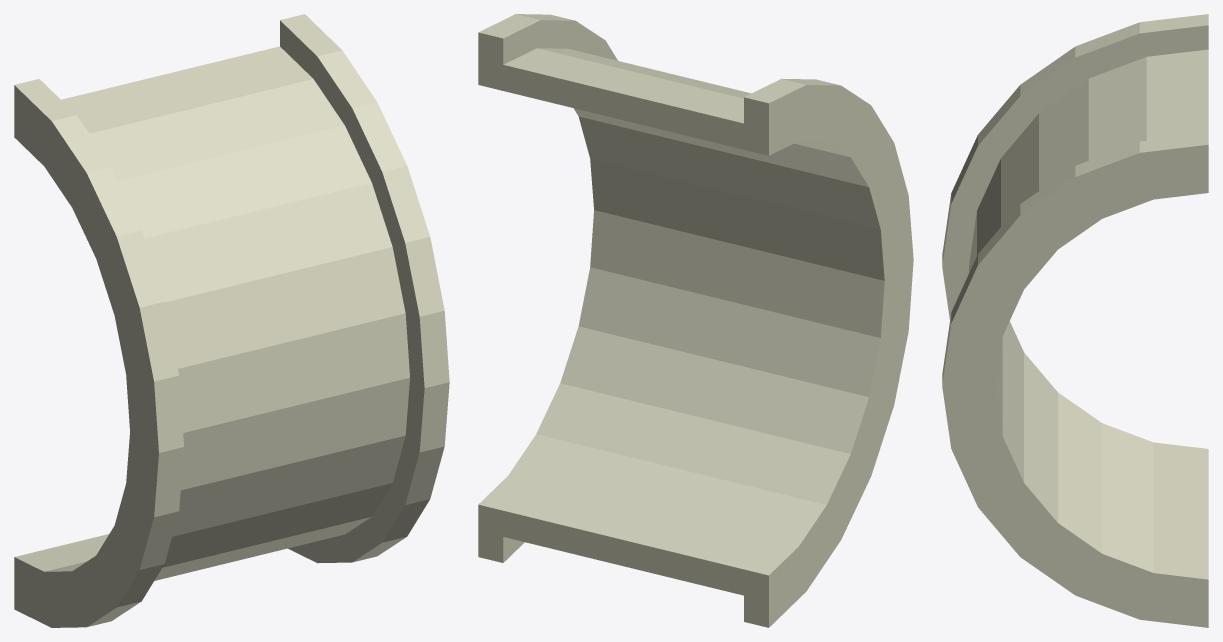
File: section_195.obj
3 views of the same model, side by side, from view 1: azimuth 30°, elevation 25°; view 2: azimuth 150°, elevation 25°; view 3: azimuth 270°, elevation 25° (orthographic). The views are drawn at different scales.
Size of the model in its own units: 11.6 by 20 by 10.
